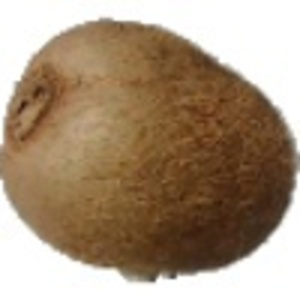kiwi: (1, 17, 300, 285)
